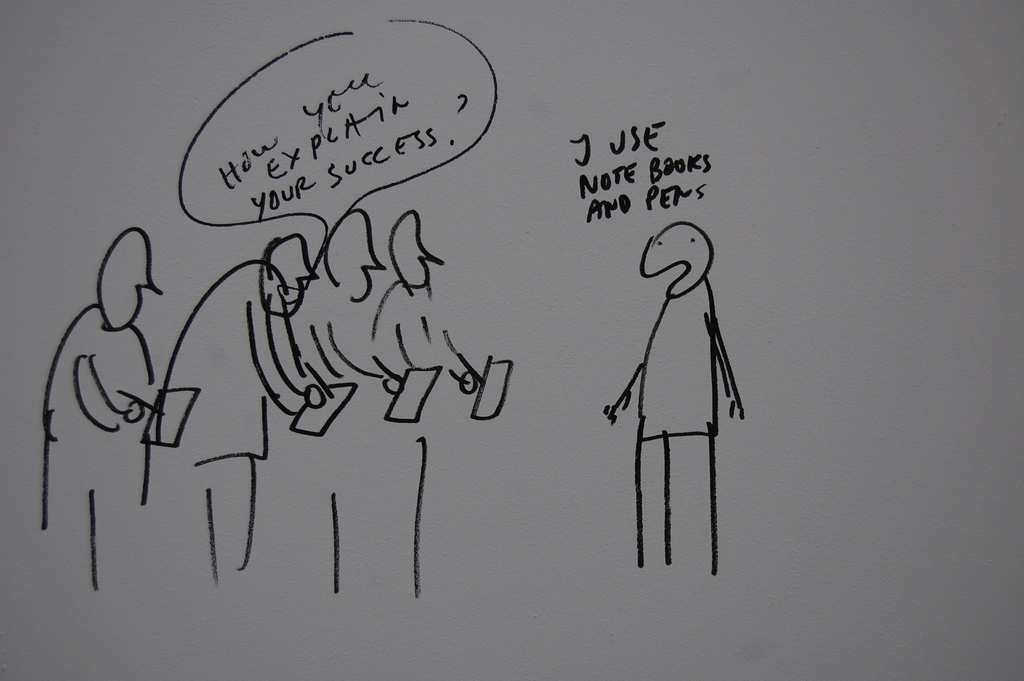Human_hand: (600, 390, 636, 426), (723, 389, 745, 420), (303, 382, 326, 409), (459, 369, 481, 395), (381, 372, 405, 395), (124, 400, 144, 423)
